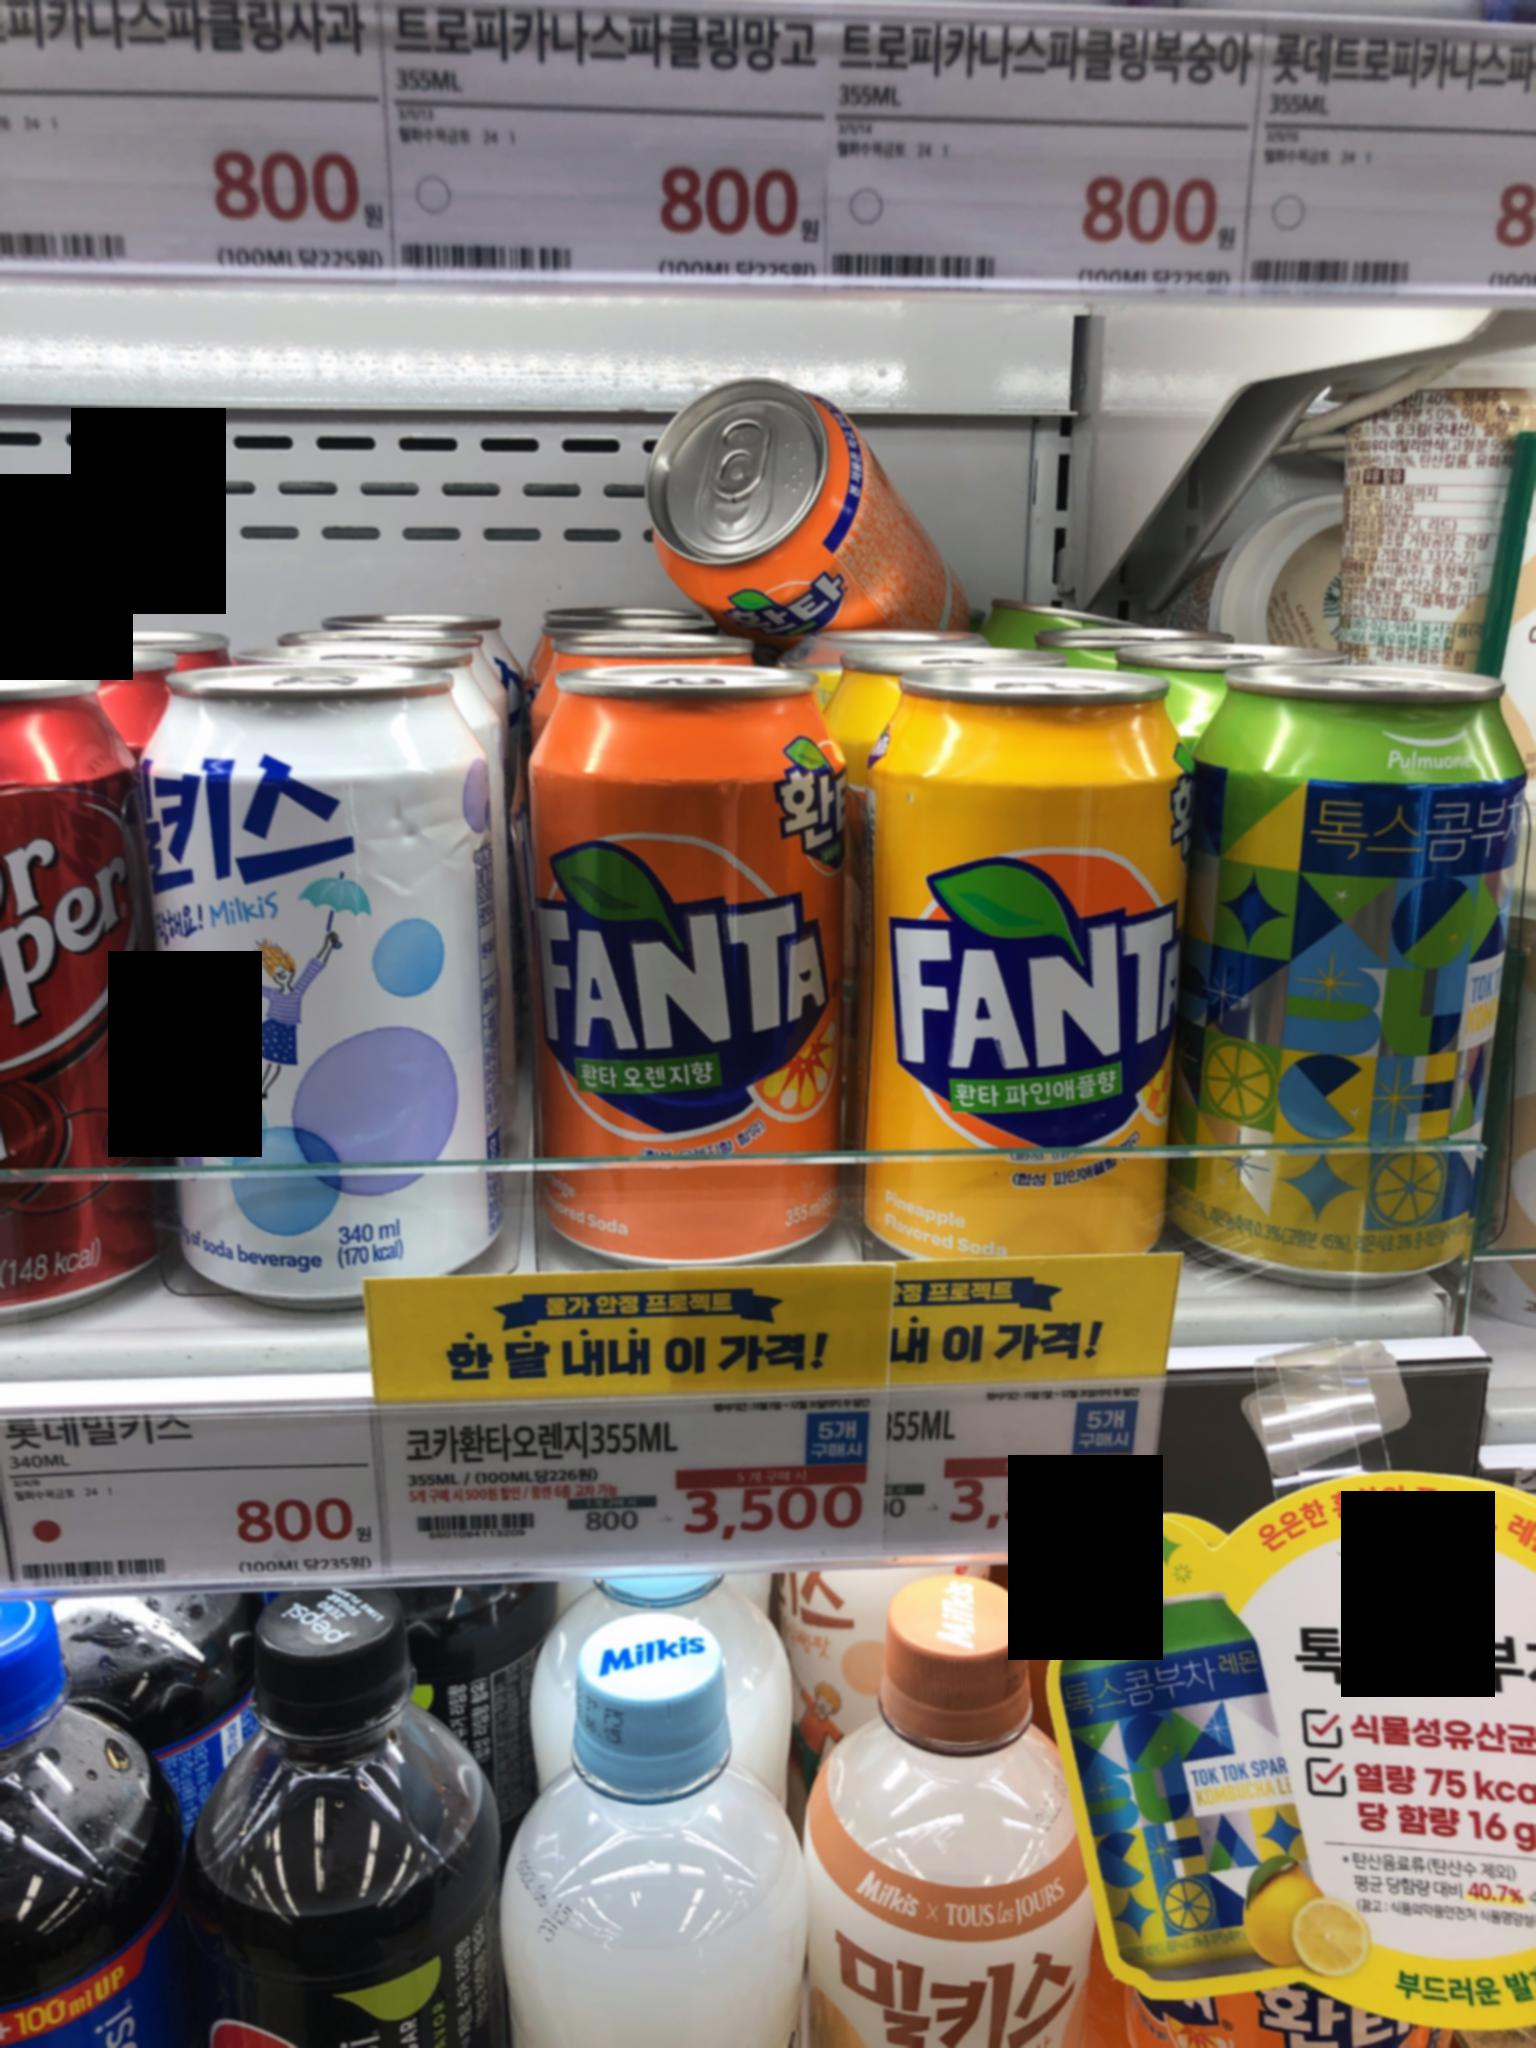fanta_orange: (500, 640, 847, 1290)
